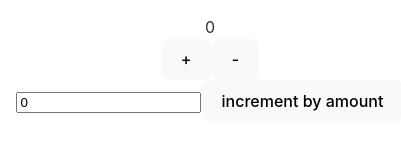
Test: increment, decrement テスト › increment ボタンをクリックしたとき、store の値が1増加する
Click the button "+" at (186, 59), box [161, 39, 212, 80]
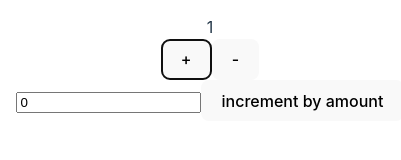
Result: the text with test id "countValue" reads "1" at [207, 17, 213, 37]
